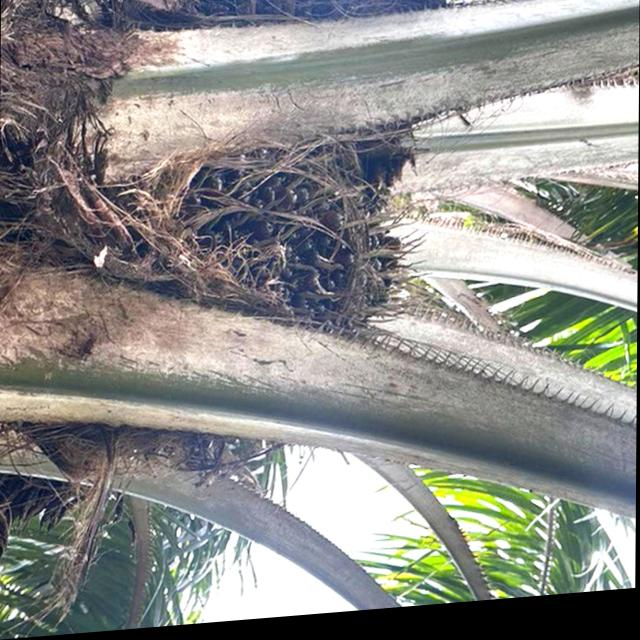ripe: (189, 182, 406, 364)
